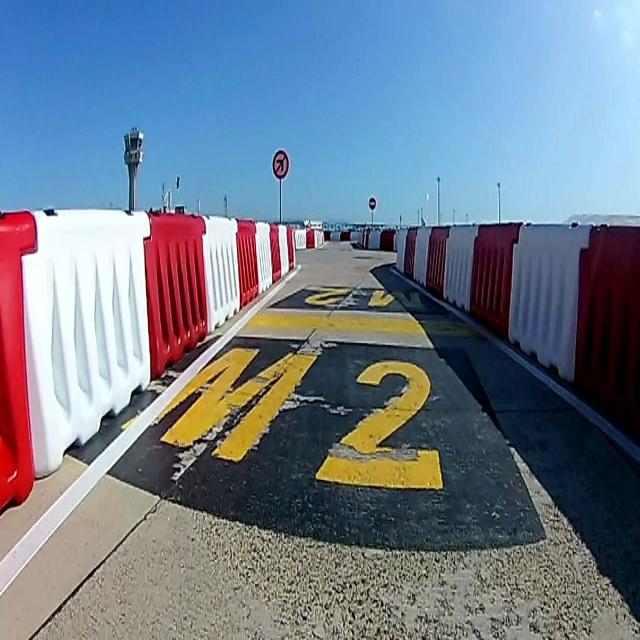girisyok: (368, 193, 377, 212)
soladonulmez: (272, 149, 288, 182)
